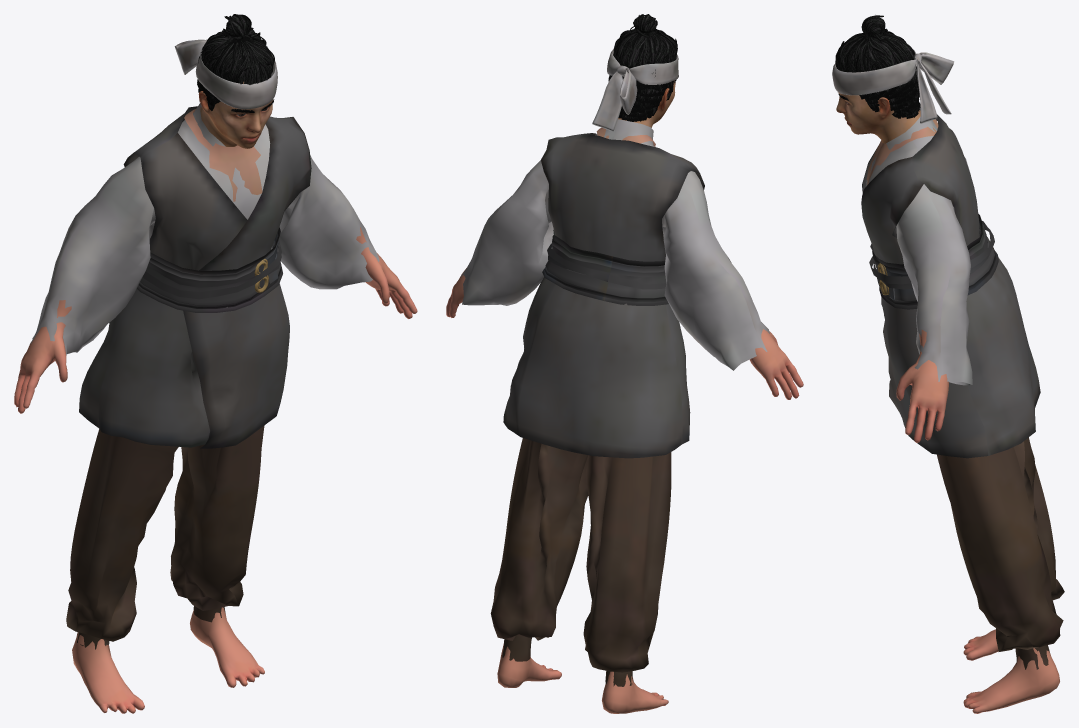
File: bowminigamer.fbx
3 renders of one model, left to right at view 1: azimuth 30°, elevation 25°; view 2: azimuth 150°, elevation 25°; view 3: azimuth 270°, elevation 25°, orthographic. The views are drawn at different scales.
Parts seen in each view (by area): view 1: NPC_BowMiniGamer_Mesh_0; view 2: NPC_BowMiniGamer_Mesh_0; view 3: NPC_BowMiniGamer_Mesh_0.
Part boxes in pixels (x1,y1,x2,y2): NPC_BowMiniGamer_Mesh_0: (14, 14, 417, 713); NPC_BowMiniGamer_Mesh_0: (446, 14, 803, 713); NPC_BowMiniGamer_Mesh_0: (832, 15, 1064, 713).
Size of the model in its own units: 99.92 by 175 by 55.63.
Materials: 2 (2 with a texture image).
